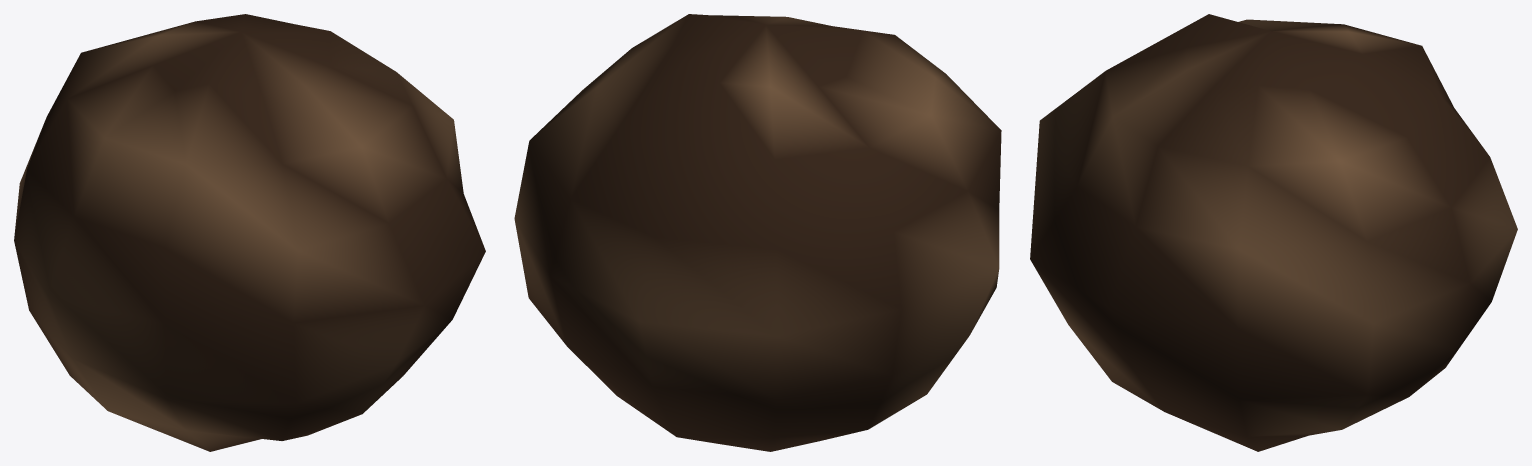
Rendered from truffle.glb.
The picture shows the model from 3 angles, left to right: view 1: azimuth 30°, elevation 25°; view 2: azimuth 150°, elevation 25°; view 3: azimuth 270°, elevation 25°; orthographic projection. The views are drawn at different scales.
Visible parts, largest first — view 1: truffle; view 2: truffle; view 3: truffle.
Boxes of the visible parts, box(x1,y1,x2,y2) form: truffle: box(14, 14, 485, 451); truffle: box(514, 14, 1001, 451); truffle: box(1030, 14, 1517, 451).
Bounding box in the file's own units: 0.0996 × 0.0912 × 0.1019.
